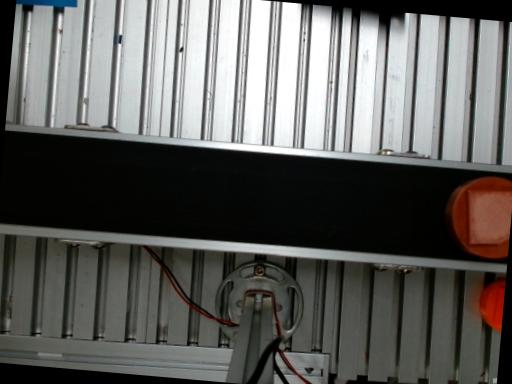Brown_Waper: (444, 176, 512, 258)
